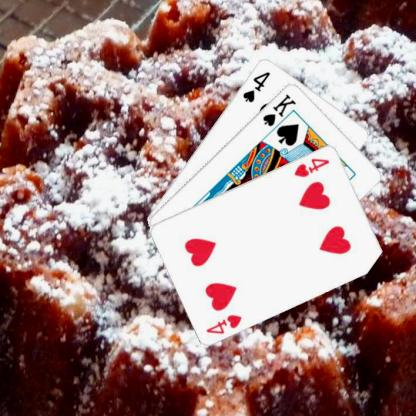4H: (204, 311, 244, 335), (291, 155, 331, 178)
4S: (240, 69, 271, 103)
KS: (260, 90, 297, 128)
